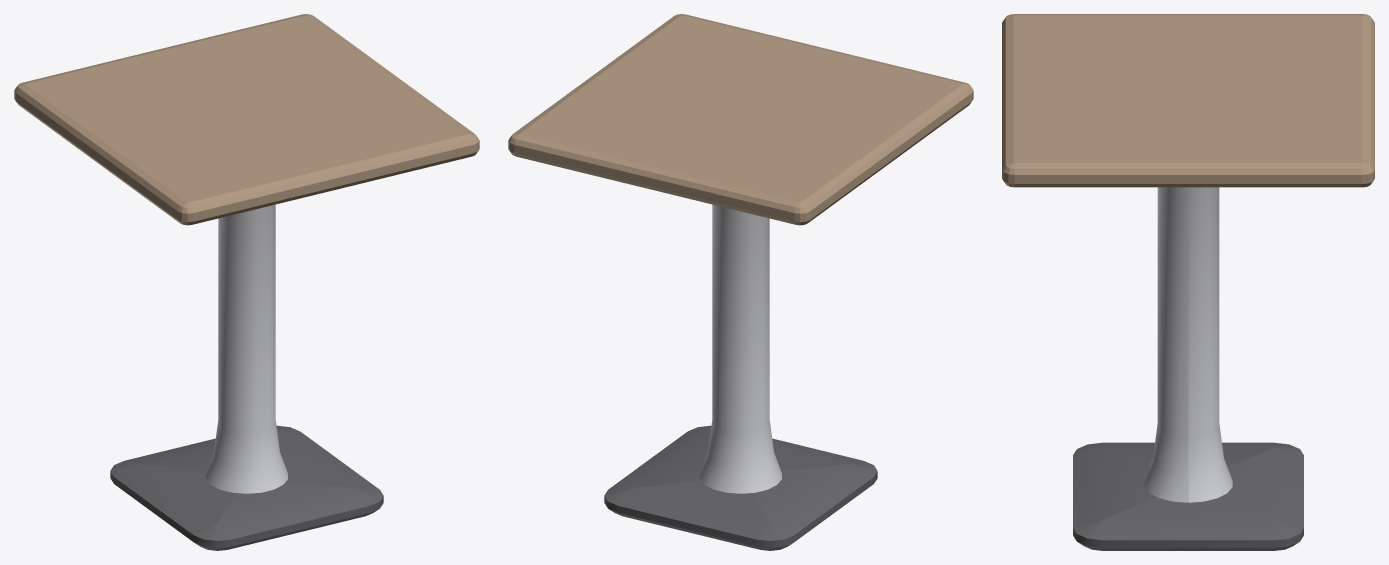
Rendered from fast-food-and-drive-thru-pedestal-table-2-seat-457bedc3__16180.glb.
The picture shows the model from 3 angles, left to right: view 1: azimuth 30°, elevation 25°; view 2: azimuth 150°, elevation 25°; view 3: azimuth 270°, elevation 25°; orthographic projection. The views are drawn at different scales.
Parts seen in each view (by area): view 1: pedestal-table-2-seat; view 2: pedestal-table-2-seat; view 3: pedestal-table-2-seat.
Part boxes in pixels (bbox=[...]): pedestal-table-2-seat: bbox=[14, 14, 479, 550]; pedestal-table-2-seat: bbox=[508, 14, 973, 550]; pedestal-table-2-seat: bbox=[1002, 14, 1374, 550].
Size of the model in its own units: 0.62 by 0.764 by 0.62.
